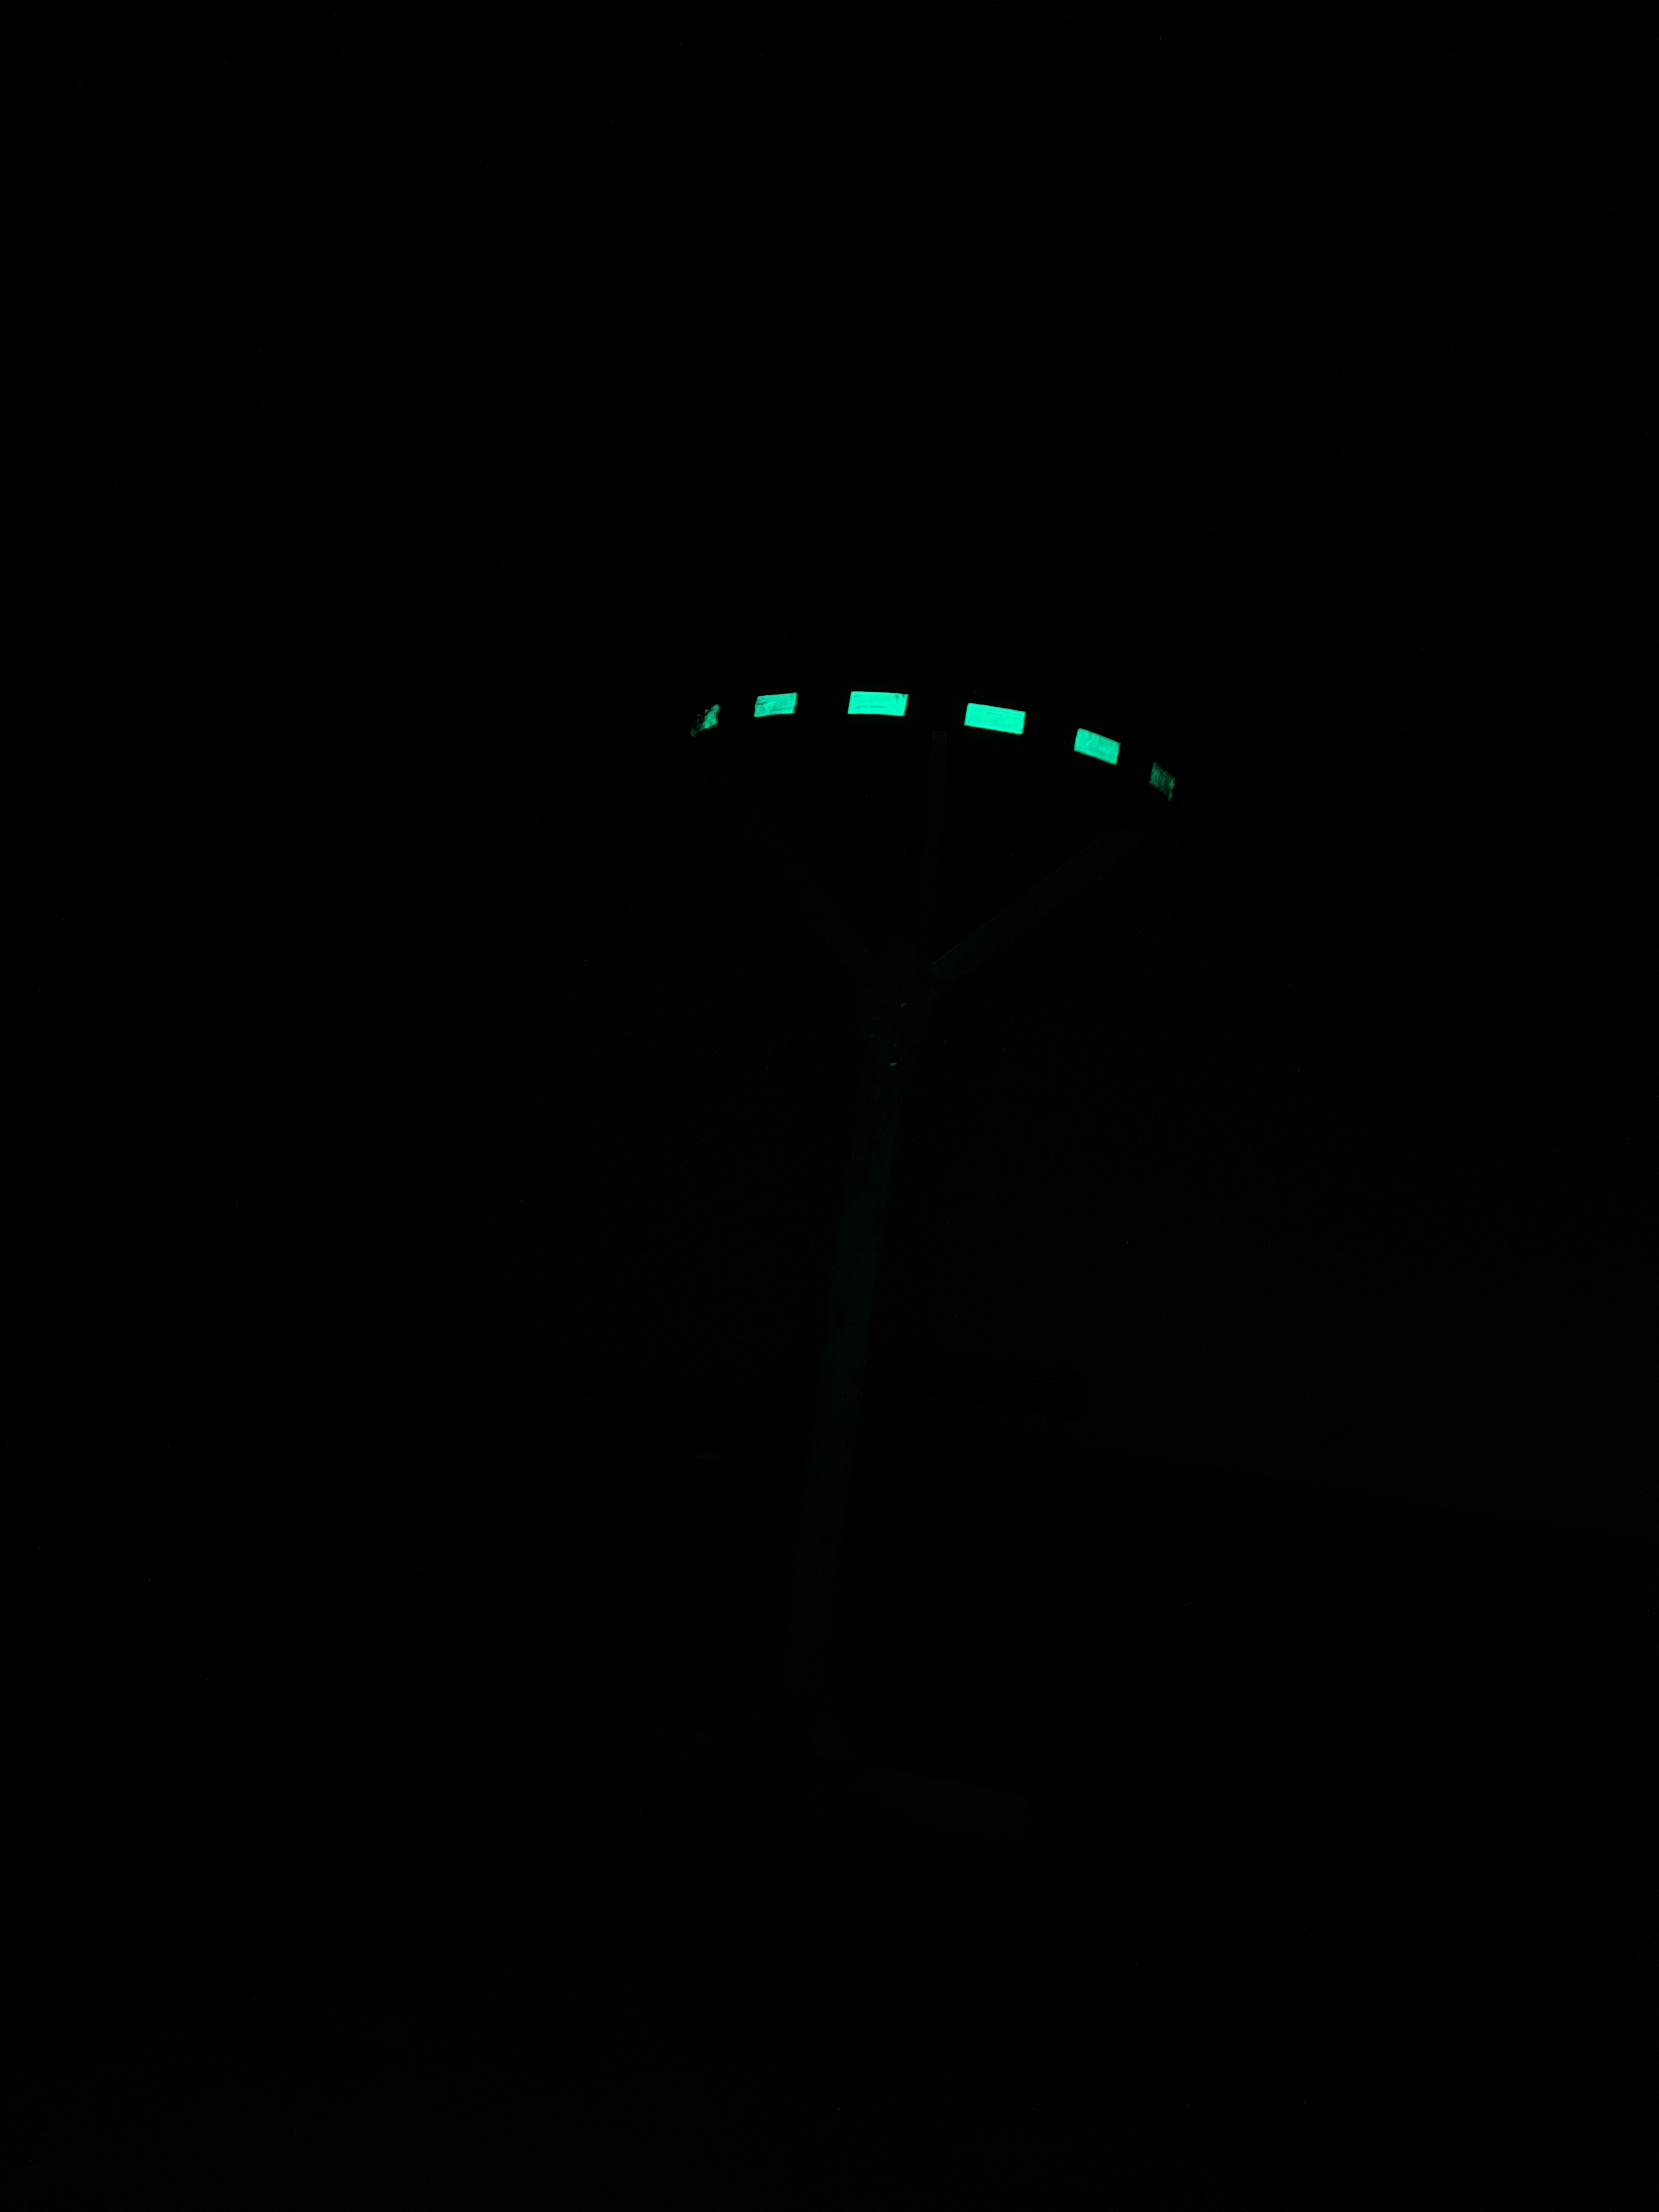hoop: (687, 681, 1183, 817)
